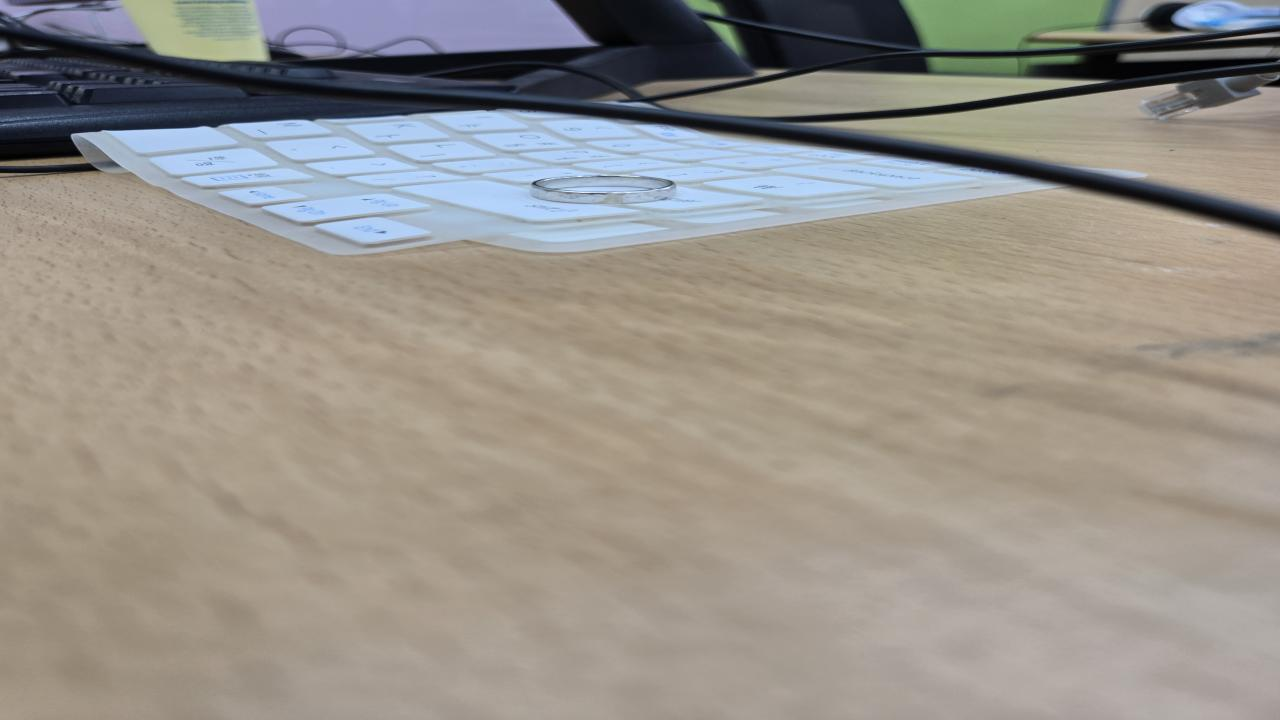ring: (532, 173, 677, 203)
